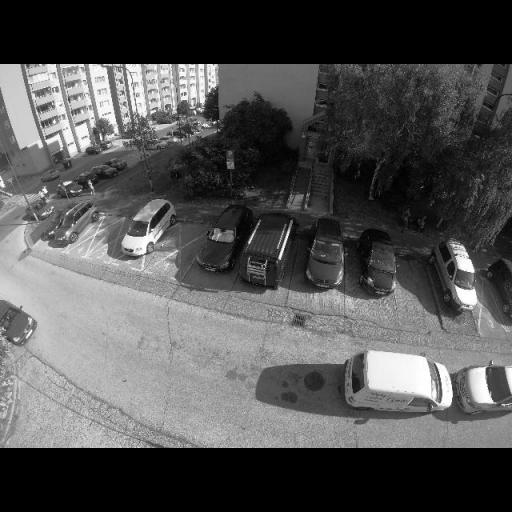busy: (341, 351, 454, 414), (240, 208, 298, 288), (196, 206, 252, 274), (436, 242, 486, 316), (300, 218, 352, 288), (118, 200, 178, 259), (356, 228, 402, 295), (455, 365, 511, 414), (48, 201, 101, 247), (488, 256, 512, 326), (2, 300, 38, 345), (28, 200, 55, 221), (54, 180, 84, 198), (95, 164, 119, 178)
free: (214, 347, 335, 402), (125, 328, 211, 373), (468, 288, 502, 320), (170, 236, 204, 262), (403, 274, 432, 298), (96, 226, 122, 252)
